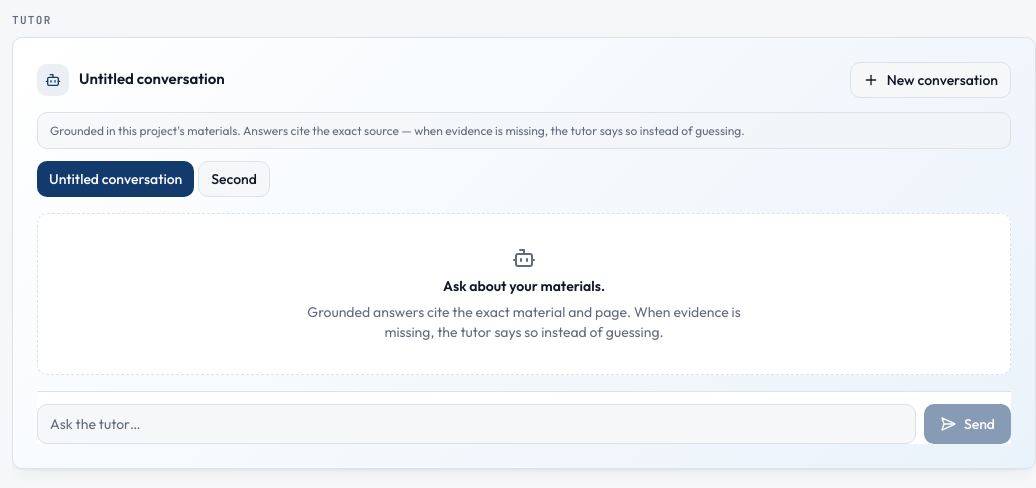
Test case: TutorSection › switches conversations and reloads history
Check: the list named "Conversations" is shown, box [37,161,270,197]
Click the option "Second".
click(234, 179)  # box [198,161,270,197]
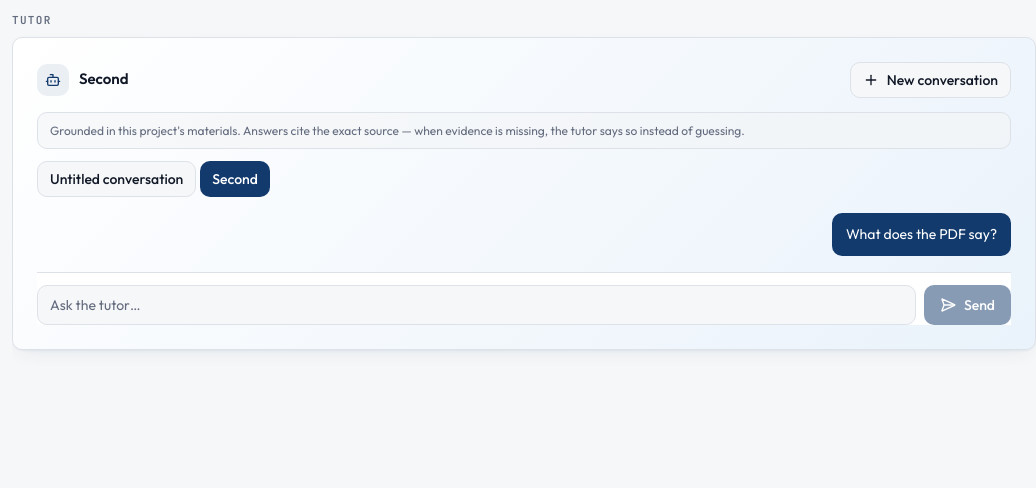
Check: the text "What does the PDF say?" is shown, box [846,223,997,246]
